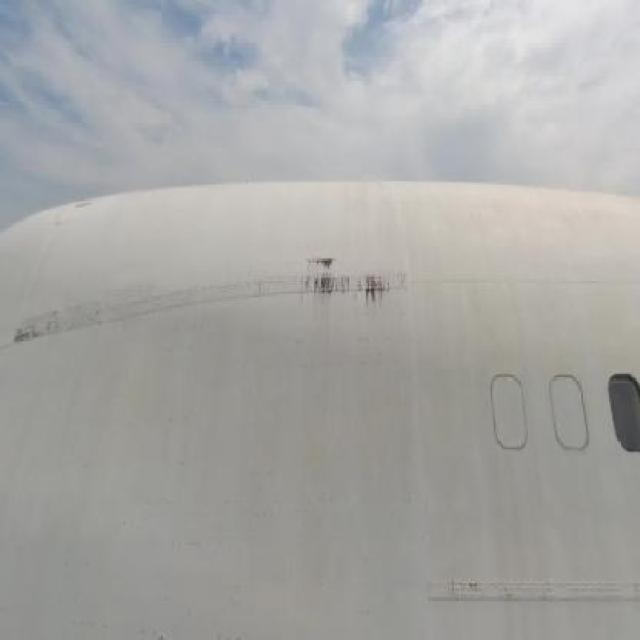Rust: (294, 242, 414, 327)
Scartch: (8, 303, 87, 372)
